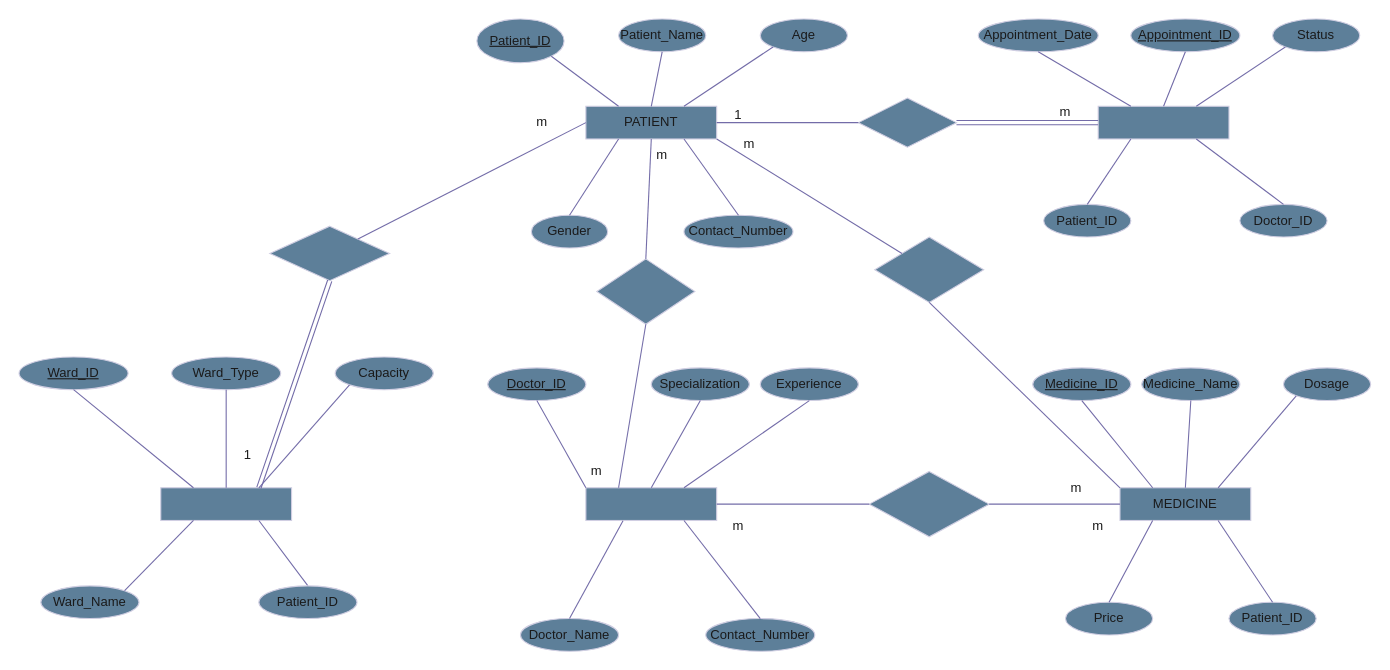
Image size: 1390x670. Some labels were removed from this diagram. The shapes that lost their labels are listed below. From the top down, each one's centre as x and y in pixels, then its label:
At point (906, 122): "Books".
At point (1163, 122): "APPOINTMENT".
At point (329, 253): "Assigned_to".
At point (929, 269): "Purchase".
At point (645, 291): "Consulted_by".
At point (226, 503): "WARD".
At point (651, 503): "DOCTOR".
At point (928, 503): "Prescribed".
